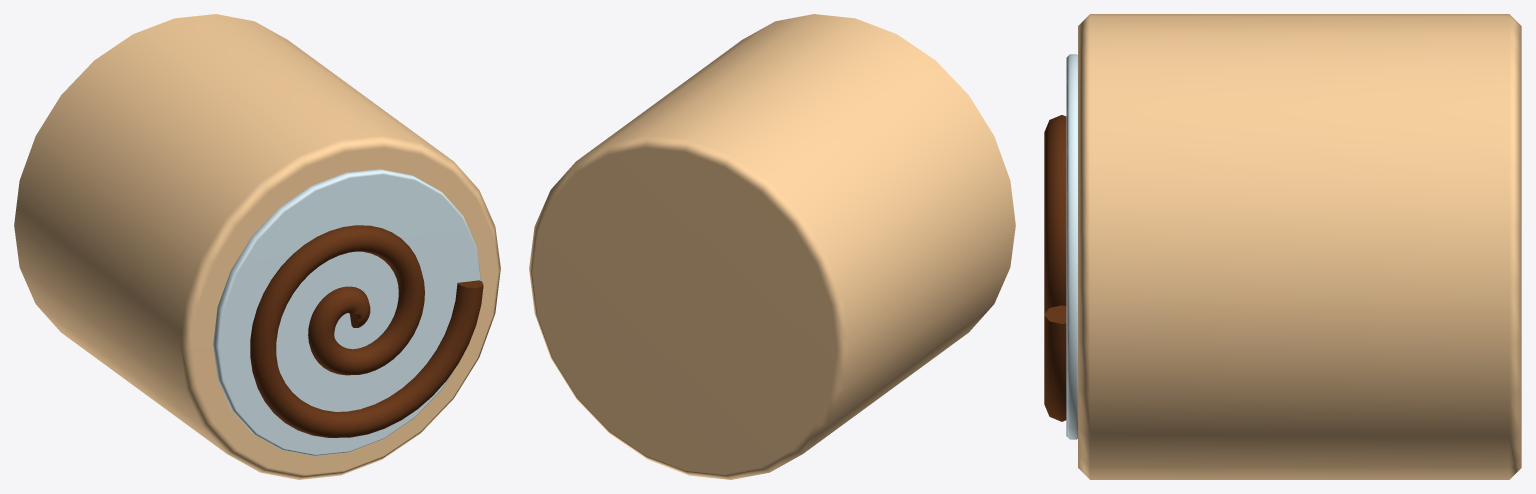
The model's file is swissroll.glb.
The picture shows the model from 3 angles, left to right: view 1: azimuth 30°, elevation 25°; view 2: azimuth 150°, elevation 25°; view 3: azimuth 270°, elevation 25°; orthographic projection. The views are drawn at different scales.
Parts seen in each view (by area): view 1: swissroll; view 2: swissroll; view 3: swissroll.
Boxes of the visible parts, x1=… form: swissroll: x1=14, y1=14, x2=500, y2=479; swissroll: x1=529, y1=14, x2=1015, y2=479; swissroll: x1=1044, y1=14, x2=1521, y2=479.
Size of the model in its own units: 0.9797 by 0.9797 by 1.
Materials: 1 (1 with a texture image).
